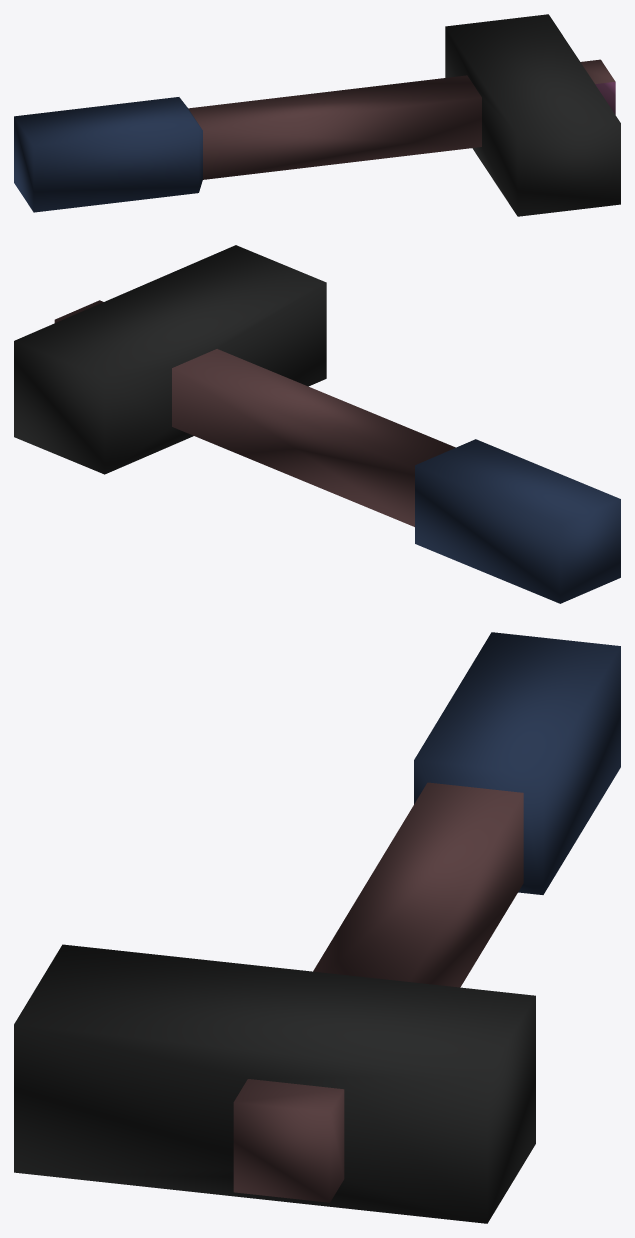
The model's file is hammer.fbx.
3 views of the same model, one above another, from view 1: azimuth 30°, elevation 25°; view 2: azimuth 150°, elevation 25°; view 3: azimuth 270°, elevation 25° (orthographic). The views are drawn at different scales.
Visible parts, largest first — view 1: Cube.014; view 2: Cube.014; view 3: Cube.014.
Part boxes in pixels (box(x1,y1,x2,y2)): Cube.014: box(14, 14, 620, 216); Cube.014: box(14, 245, 620, 603); Cube.014: box(14, 632, 620, 1223).
Bounding box in the file's own units: 64.43 × 9.57 × 35.54.
